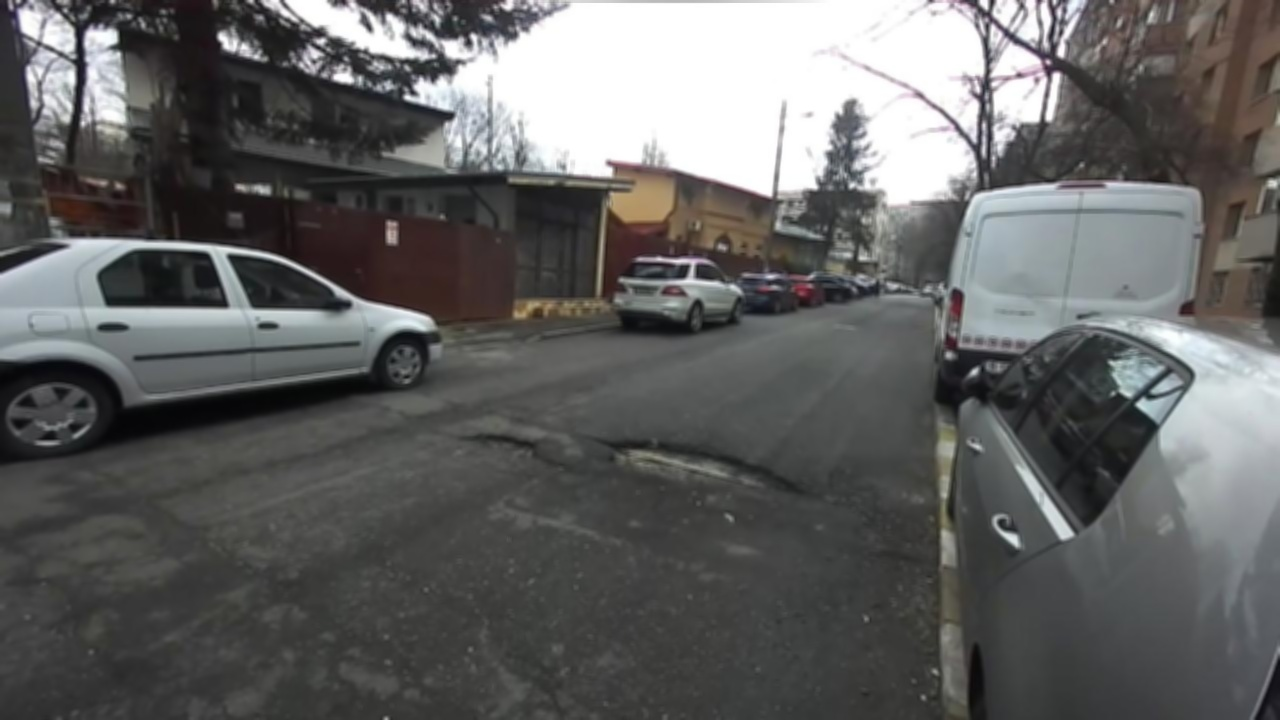pothole: (584, 431, 808, 500), (455, 429, 567, 469)
